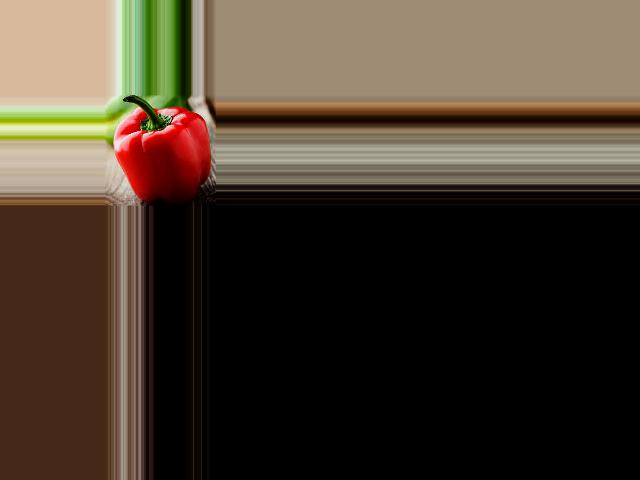bell_pepper: (111, 97, 208, 207)
